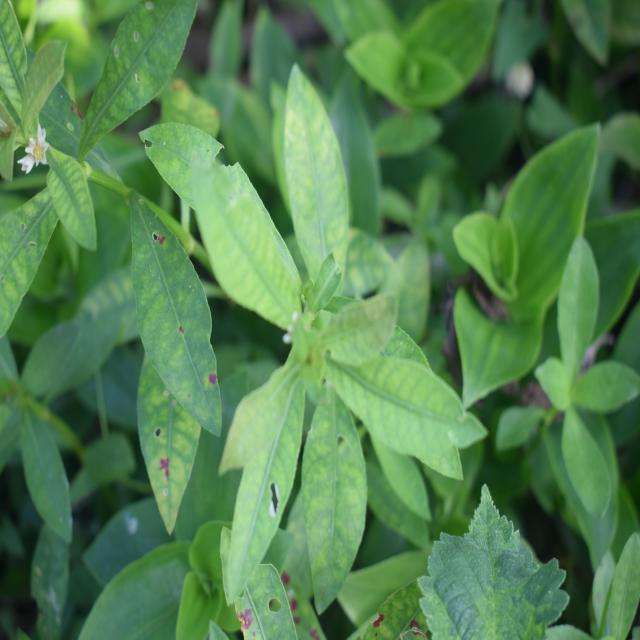Alligatorweed: (204, 121, 466, 570)
